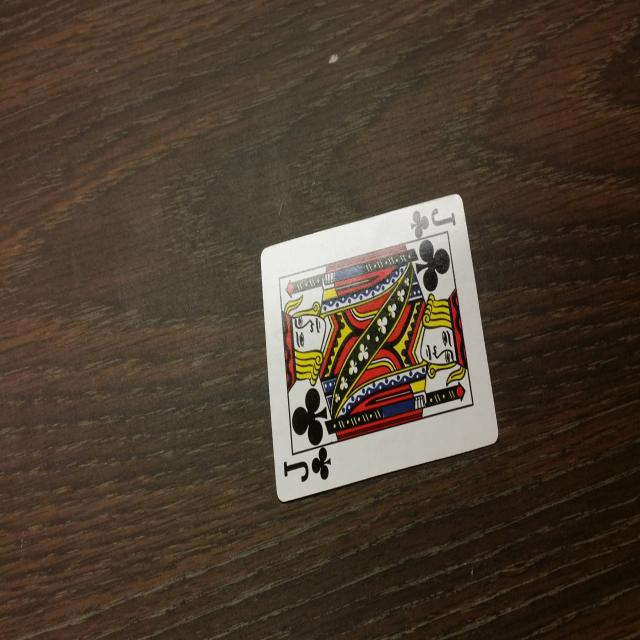Jc: (280, 436, 334, 494), (408, 198, 462, 244)
